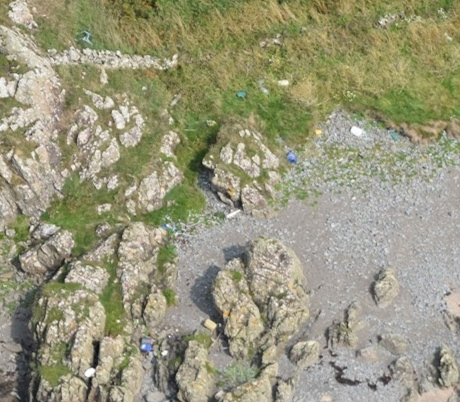scattered_barrel: (275, 77, 373, 168)
white_in_green: (119, 325, 169, 369), (67, 350, 117, 394), (188, 302, 238, 346), (65, 12, 115, 56), (221, 74, 260, 114)
